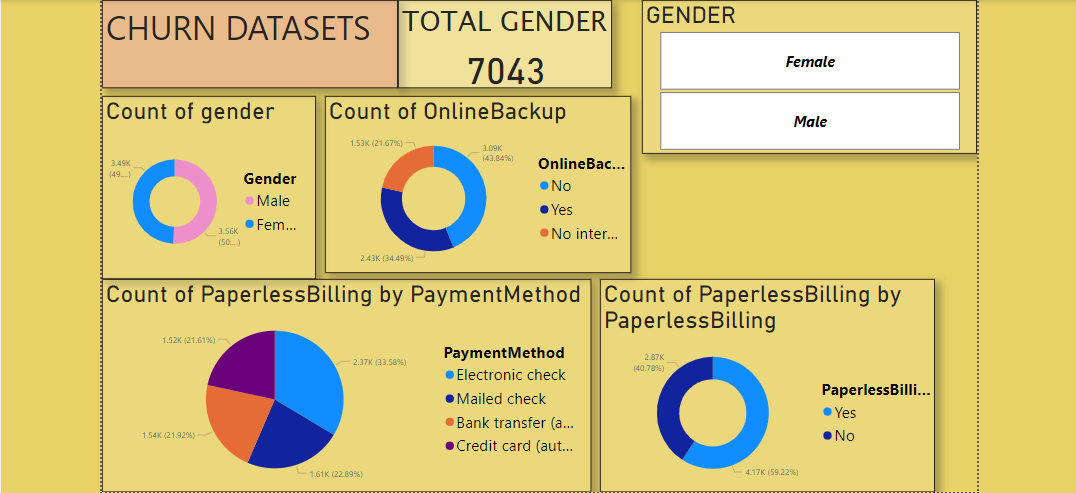

The dashboard page shown, as its layout file describes it:
{"tool":"powerbi","page":{"name":"Page 1","canvas":[1280,720],"ordinal":0},"visuals":[{"type":"donutChart","title":"Count of gender ","fields":{"Category":["01 Churn-Dataset.gender"],"Y":["CountNonNull(01 Churn-Dataset.gender)"]},"box":[0,140.5,313.2,267.8],"z":0},{"type":"textbox","box":[0,0,433.2,128.8],"z":1000},{"type":"card","title":"TOTAL GENDER","fields":{"Values":["CountNonNull(01 Churn-Dataset.gender)"]},"box":[433.2,0,313.2,128.8],"z":2000},{"type":"pieChart","fields":{"Category":["01 Churn-Dataset.PaymentMethod"],"Y":["CountNonNull(01 Churn-Dataset.PaperlessBilling)"]},"box":[0,408.3,715.6,311.7],"z":3000},{"type":"donutChart","title":"Count of OnlineBackup ","fields":{"Y":["CountNonNull(01 Churn-Dataset.OnlineBackup)"],"Category":["01 Churn-Dataset.OnlineBackup"]},"box":[326.3,140.5,447.8,259],"z":4000},{"type":"donutChart","fields":{"Y":["CountNonNull(01 Churn-Dataset.PaperlessBilling)"],"Category":["01 Churn-Dataset.PaperlessBilling"]},"box":[728.8,408.3,490.2,311.7],"z":5000},{"type":"slicer","title":"GENDER","fields":{"Values":["01 Churn-Dataset.gender"]},"box":[790.2,0,490.2,225.4],"z":6000}]}

Visuals, with their boxes in screenshot pixels (x1, y1, x2, y2):
"Count of gender " donutChart: 98,95,310,276
textbox: 98,0,391,87
"TOTAL GENDER" card: 391,0,602,87
pieChart - 01 Churn-Dataset.PaymentMethod x CountNonNull(01 Churn-Dataset.PaperlessBilling): 98,276,581,486
"Count of OnlineBackup " donutChart: 318,95,621,270
donutChart - CountNonNull(01 Churn-Dataset.PaperlessBilling) x 01 Churn-Dataset.PaperlessBilling: 590,276,921,486
"GENDER" slicer: 632,0,963,152
